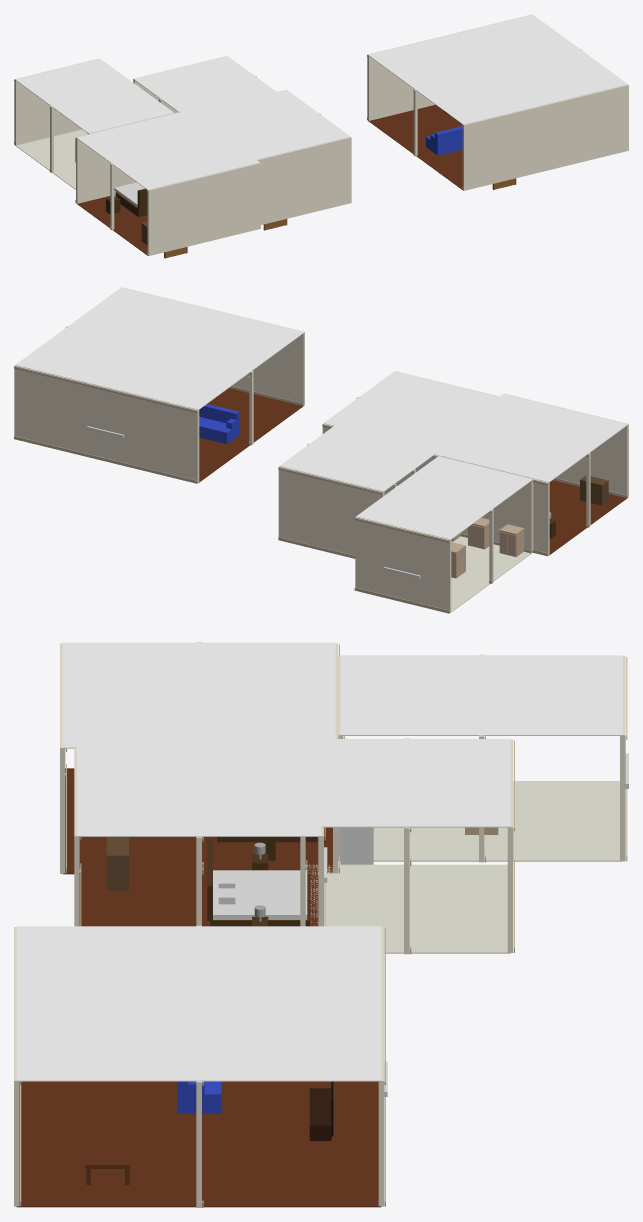
Rendered from ultra_detailed_7673.obj.
3 views of the same model, one above another, from view 1: azimuth 30°, elevation 25°; view 2: azimuth 150°, elevation 25°; view 3: azimuth 270°, elevation 25° (orthographic). The views are drawn at different scales.
Parts seen in each view (by area): view 1: Living_Room_ceiling_Living_Room_ceiling_material, Living_Room_front_wall_Living_Room_front_wall_material, Master_Bedroom_ceiling_Master_Bedroom_ceiling_material, Master_Bedroom_front_wall_Master_Bedroom_front_wall_material, Kitchen_ceiling_Kitchen_ceiling_material, Guest_Bedroom_ceiling_Guest_Bedroom_ceiling_material, Guest_Bedroom_front_wall_Guest_Bedroom_front_wall_material, Dining_Room_ceiling_Dining_Room_ceiling_material, Living_Room_floor_Living_Room_floor_material, Living_Room_back_wall_Living_Room_back_wall_material, Kitchen_back_wall_Kitchen_back_wall_material, Master_Bedroom_back_wall_Master_Bedroom_back_wall_material (+5 smaller); view 2: Living_Room_ceiling_Living_Room_ceiling_material, Living_Room_back_wall_Living_Room_back_wall_material, Master_Bedroom_ceiling_Master_Bedroom_ceiling_material, Kitchen_ceiling_Kitchen_ceiling_material, Guest_Bedroom_ceiling_Guest_Bedroom_ceiling_material, Kitchen_back_wall_Kitchen_back_wall_material, Dining_Room_ceiling_Dining_Room_ceiling_material, Dining_Room_back_wall_Dining_Room_back_wall_material, Living_Room_floor_Living_Room_floor_material, Living_Room_front_wall_Living_Room_front_wall_material, Master_Bedroom_floor_Master_Bedroom_floor_material, Master_Bedroom_front_wall_Master_Bedroom_front_wall_material (+9 smaller); view 3: Living_Room_ceiling_Living_Room_ceiling_material, Living_Room_floor_Living_Room_floor_material, Master_Bedroom_ceiling_Master_Bedroom_ceiling_material, Kitchen_ceiling_Kitchen_ceiling_material, Guest_Bedroom_ceiling_Guest_Bedroom_ceiling_material, Dining_Room_ceiling_Dining_Room_ceiling_material, Dining_Room_floor_Dining_Room_floor_material, Kitchen_floor_Kitchen_floor_material, Master_Bedroom_floor_Master_Bedroom_floor_material, Guest_Bedroom_floor_Guest_Bedroom_floor_material, Guest_Bedroom_bed_mattress_Guest_Bedroom_bed_bedding, Living_Room_coffee_table_top_Living_Room_coffee_table_wood (+10 smaller).
Part boxes in pixels (x1,y1,x2,y2): Living_Room_ceiling_Living_Room_ceiling_material: [368, 14, 627, 124]; Living_Room_front_wall_Living_Room_front_wall_material: [462, 84, 628, 190]; Master_Bedroom_ceiling_Master_Bedroom_ceiling_material: [77, 110, 259, 189]; Master_Bedroom_front_wall_Master_Bedroom_front_wall_material: [147, 163, 260, 256]; Kitchen_ceiling_Kitchen_ceiling_material: [15, 58, 173, 133]; Guest_Bedroom_ceiling_Guest_Bedroom_ceiling_material: [187, 90, 350, 159]; Guest_Bedroom_front_wall_Guest_Bedroom_front_wall_material: [257, 137, 351, 224]; Dining_Room_ceiling_Dining_Room_ceiling_material: [134, 56, 281, 118]; Living_Room_floor_Living_Room_floor_material: [368, 105, 463, 190]; Living_Room_back_wall_Living_Room_back_wall_material: [367, 14, 532, 120]; Kitchen_back_wall_Kitchen_back_wall_material: [14, 58, 99, 145]; Master_Bedroom_back_wall_Master_Bedroom_back_wall_material: [76, 112, 178, 203]; Living_Room_ceiling_Living_Room_ceiling_material: [15, 287, 303, 409]; Living_Room_back_wall_Living_Room_back_wall_material: [14, 365, 199, 482]; Master_Bedroom_ceiling_Master_Bedroom_ceiling_material: [430, 394, 628, 482]; Kitchen_ceiling_Kitchen_ceiling_material: [356, 456, 532, 539]; Guest_Bedroom_ceiling_Guest_Bedroom_ceiling_material: [323, 371, 498, 449]; Kitchen_back_wall_Kitchen_back_wall_material: [355, 517, 451, 612]; Dining_Room_ceiling_Dining_Room_ceiling_material: [279, 422, 443, 491]; Dining_Room_back_wall_Dining_Room_back_wall_material: [278, 466, 384, 555]; Living_Room_floor_Living_Room_floor_material: [199, 388, 304, 482]; Living_Room_front_wall_Living_Room_front_wall_material: [122, 287, 304, 405]; Master_Bedroom_floor_Master_Bedroom_floor_material: [549, 480, 627, 555]; Master_Bedroom_front_wall_Master_Bedroom_front_wall_material: [504, 393, 628, 497]; Living_Room_ceiling_Living_Room_ceiling_material: [16, 926, 381, 1081]; Living_Room_floor_Living_Room_floor_material: [16, 1081, 381, 1207]; Master_Bedroom_ceiling_Master_Bedroom_ceiling_material: [62, 642, 335, 748]; Kitchen_ceiling_Kitchen_ceiling_material: [340, 655, 622, 735]; Guest_Bedroom_ceiling_Guest_Bedroom_ceiling_material: [77, 742, 321, 836]; Dining_Room_ceiling_Dining_Room_ceiling_material: [303, 739, 510, 827]; Dining_Room_floor_Dining_Room_floor_material: [307, 864, 510, 953]; Kitchen_floor_Kitchen_floor_material: [373, 781, 622, 861]; Master_Bedroom_floor_Master_Bedroom_floor_material: [63, 768, 332, 874]; Guest_Bedroom_floor_Guest_Bedroom_floor_material: [79, 867, 318, 926]; Guest_Bedroom_bed_mattress_Guest_Bedroom_bed_bedding: [213, 870, 307, 919]; Living_Room_coffee_table_top_Living_Room_coffee_table_wood: [85, 1127, 129, 1168].
Size of the model in its own units: 18.77 by 2.87 by 11.08.
